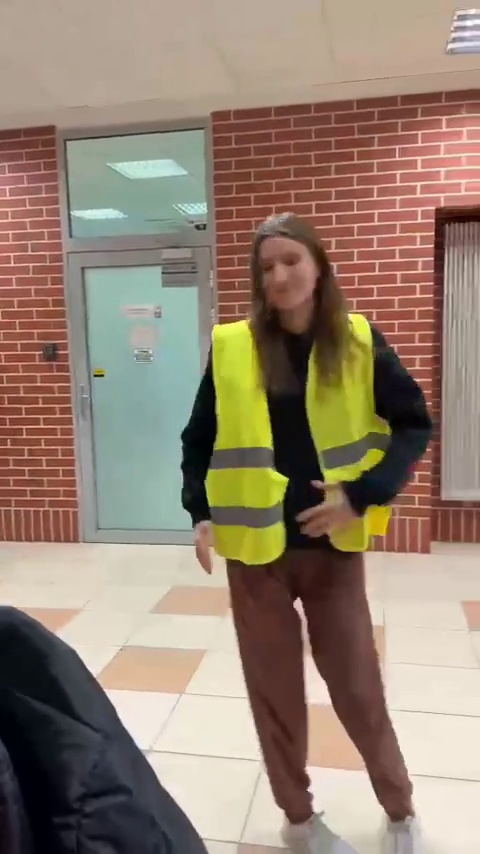vest: (181, 210, 438, 837)
